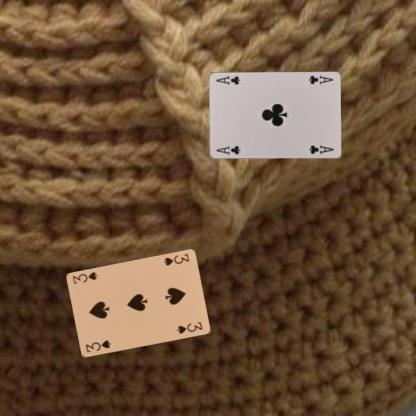3s: (82, 338, 112, 354), (160, 251, 190, 267)
Ac: (306, 72, 335, 86), (214, 143, 242, 156)
